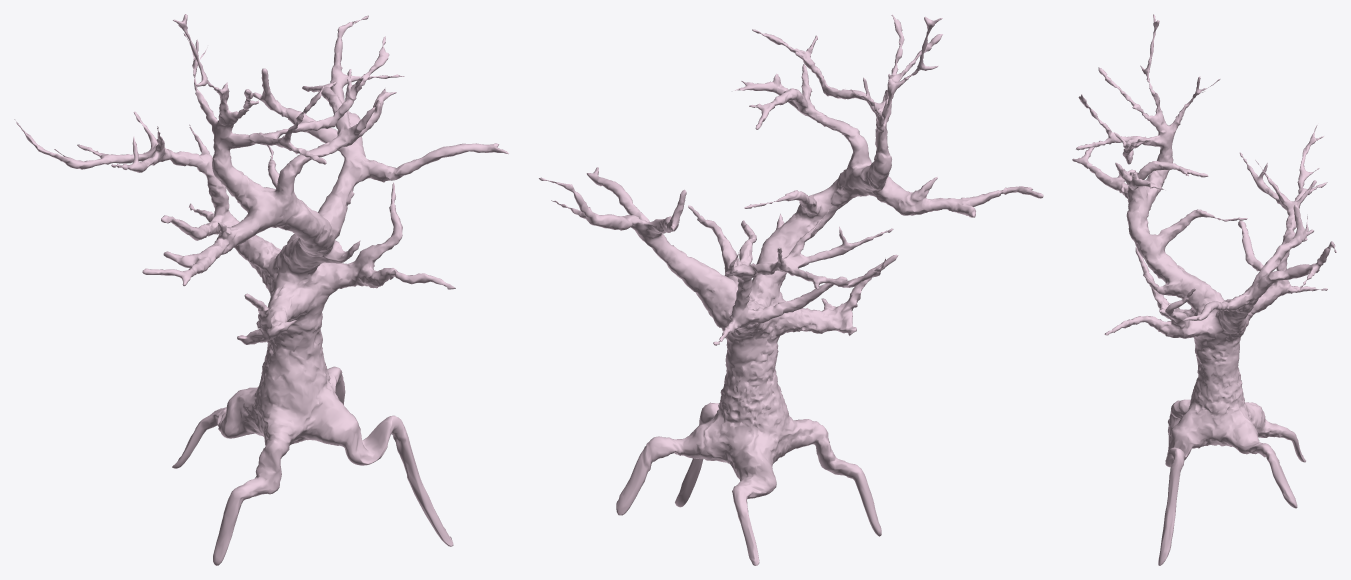
The model's file is treeEditNoCompr.glb.
The picture shows the model from 3 angles, left to right: view 1: azimuth 30°, elevation 25°; view 2: azimuth 150°, elevation 25°; view 3: azimuth 270°, elevation 25°; orthographic projection. The views are drawn at different scales.
Visible parts, largest first — view 1: CT_TREE4; view 2: CT_TREE4; view 3: CT_TREE4.
Part boxes in pixels (left/top/right/bottom): CT_TREE4: left=14, top=14, right=508, bottom=565; CT_TREE4: left=539, top=14, right=1043, bottom=565; CT_TREE4: left=1072, top=14, right=1336, bottom=565.
Bounding box in the file's own units: 6.79 × 9.09 × 4.86.
